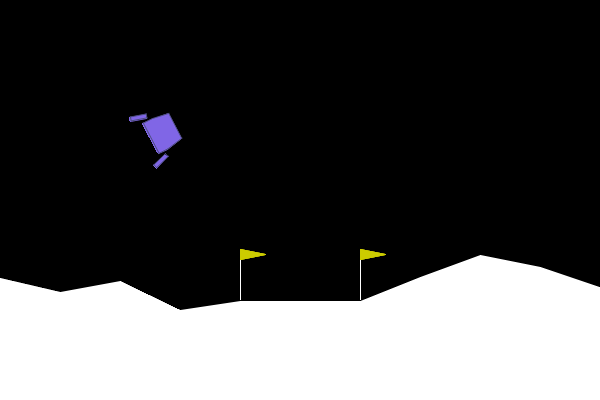lander: (127, 99, 190, 170)
